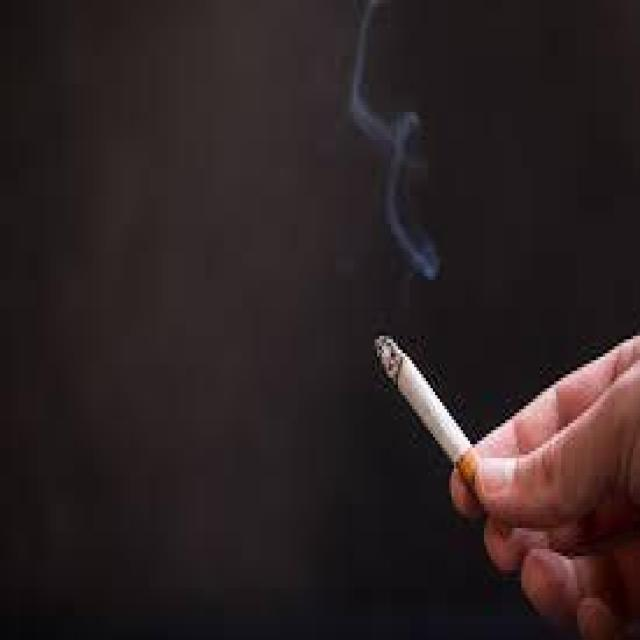cigarette: (375, 336, 477, 479)
